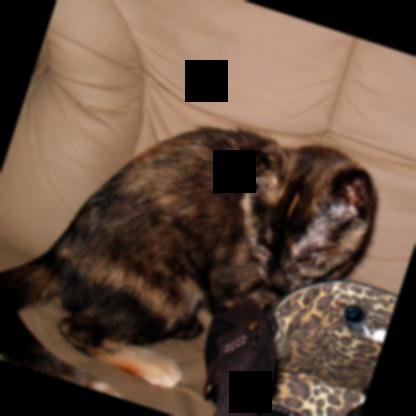handbag: (202, 285, 398, 416)
